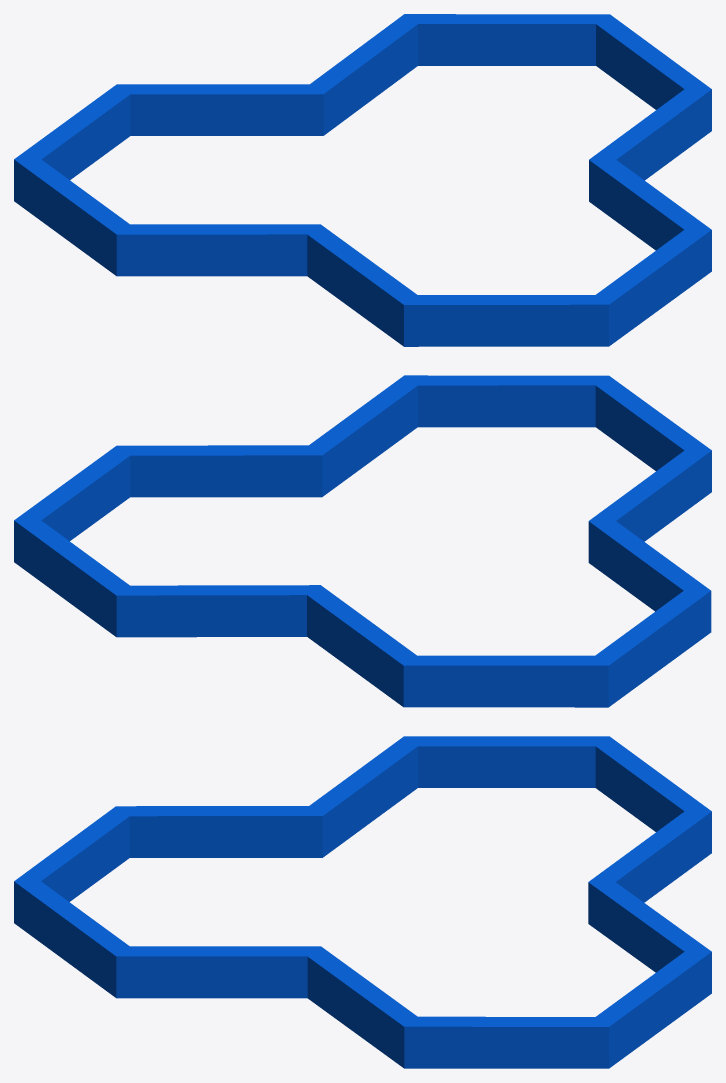
Rendered from Preview_3hex_new.fbx.
3 views of the same model, one above another, from view 1: azimuth 30°, elevation 25°; view 2: azimuth 150°, elevation 25°; view 3: azimuth 270°, elevation 25° (orthographic).
Visible parts, largest first — view 1: Plane; view 2: Plane; view 3: Plane.
Boxes of the visible parts, bbox=[...] form: Plane: bbox=[14, 14, 711, 346]; Plane: bbox=[14, 375, 711, 707]; Plane: bbox=[14, 736, 711, 1068].
Bounding box in the file's own units: 5500 × 369 × 5582.
